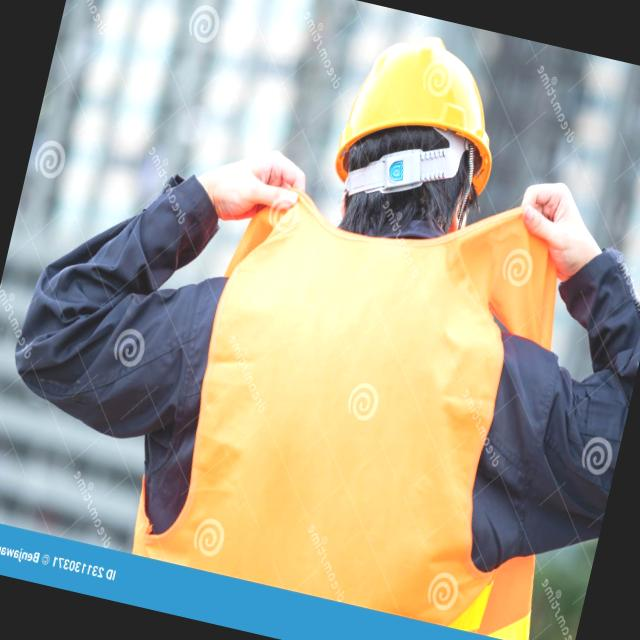helmet: (319, 13, 522, 214)
vest: (136, 138, 578, 634)
